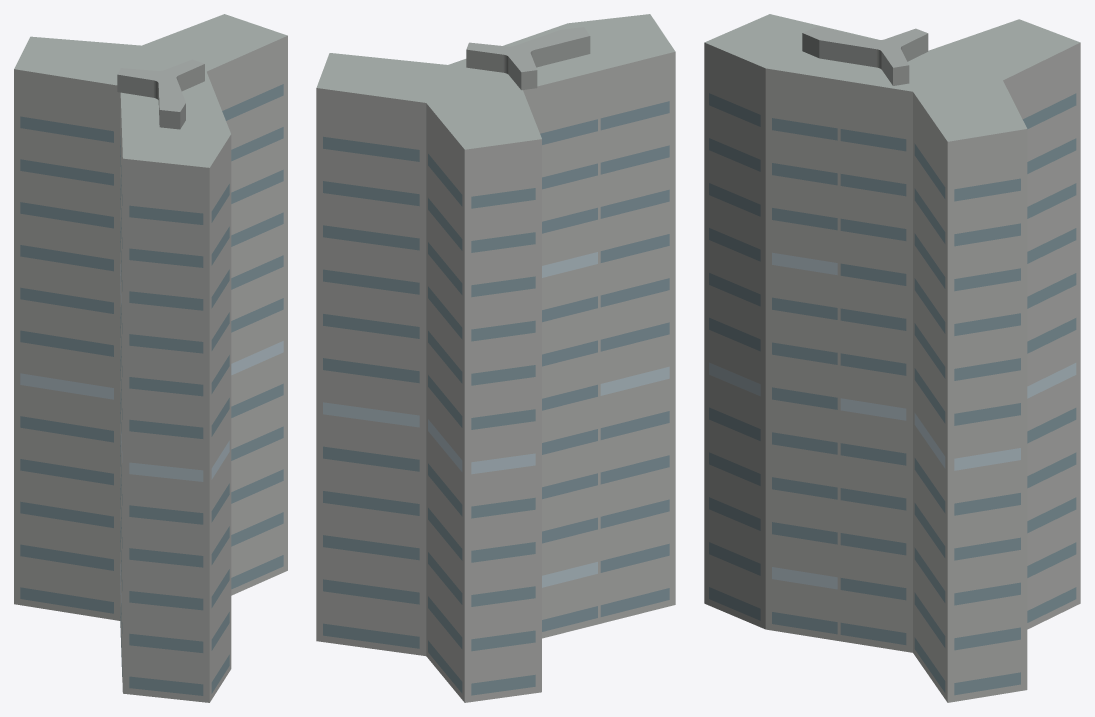
File: fallback-godeok-raemian-hillstate-120.glb
3 renders of one model, left to right at view 1: azimuth 30°, elevation 25°; view 2: azimuth 150°, elevation 25°; view 3: azimuth 270°, elevation 25°, orthographic. The views are drawn at different scales.
Visible parts, largest first — view 1: fallback-godeok-raemian-hillstate-120; view 2: fallback-godeok-raemian-hillstate-120; view 3: fallback-godeok-raemian-hillstate-120.
Part boxes in pixels (bbox=[...]): fallback-godeok-raemian-hillstate-120: bbox=[14, 14, 287, 702]; fallback-godeok-raemian-hillstate-120: bbox=[316, 14, 675, 702]; fallback-godeok-raemian-hillstate-120: bbox=[704, 14, 1080, 702].
Size of the model in its own units: 35.96 by 76 by 44.72.
